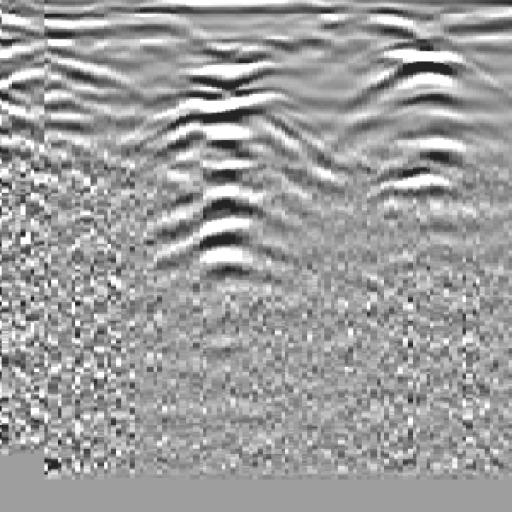metalic: (117, 36, 323, 328), (328, 19, 512, 248)
